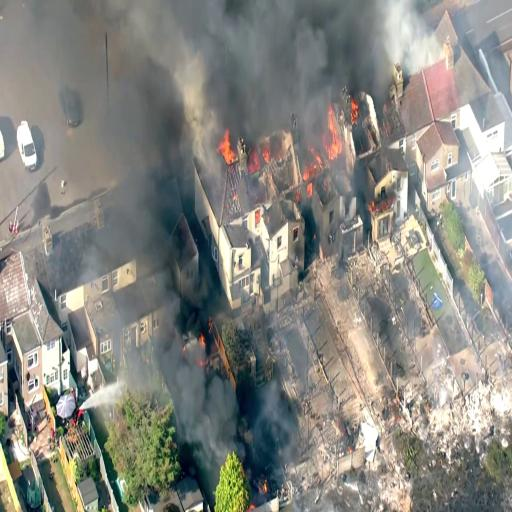fire: (294, 112, 342, 198), (217, 124, 241, 174)
smoke: (200, 0, 336, 99), (295, 0, 397, 70), (175, 374, 243, 457), (244, 401, 295, 480)
